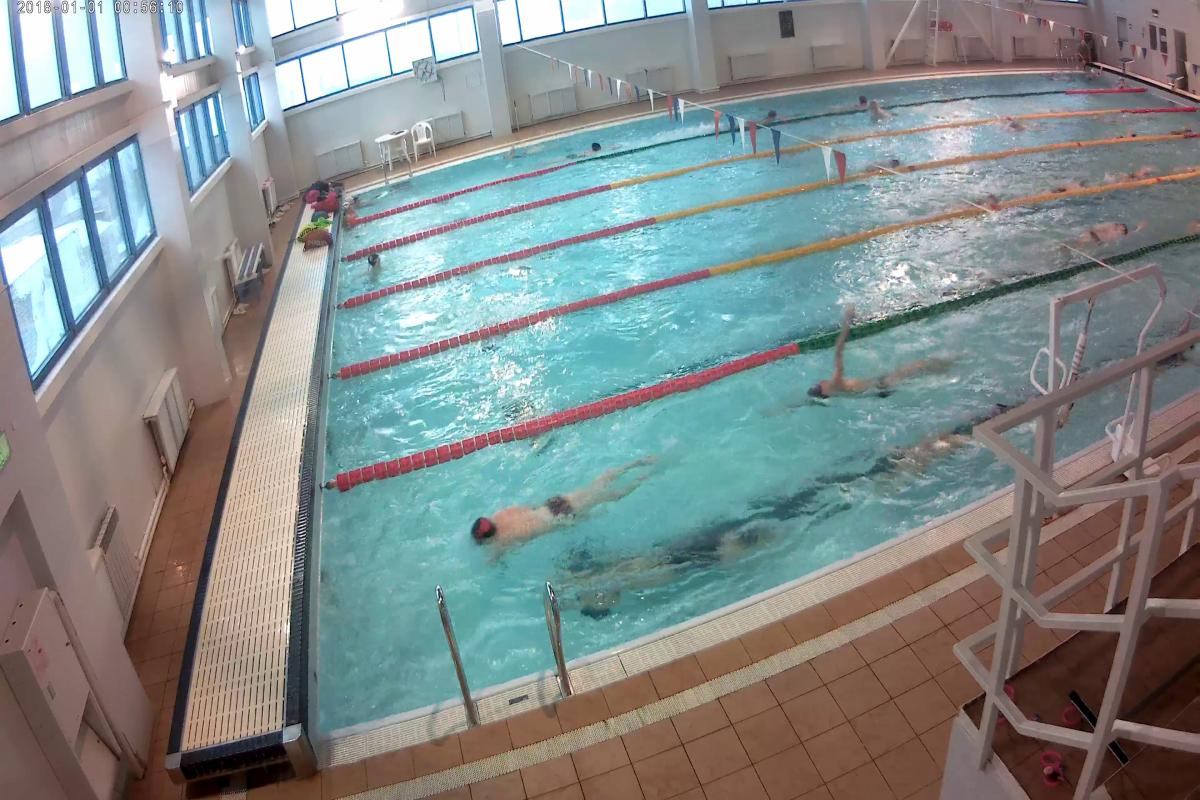swimmer: (456, 455, 652, 549), (594, 516, 750, 595), (789, 350, 965, 408), (862, 414, 994, 488), (1050, 213, 1153, 246), (358, 250, 390, 286)
